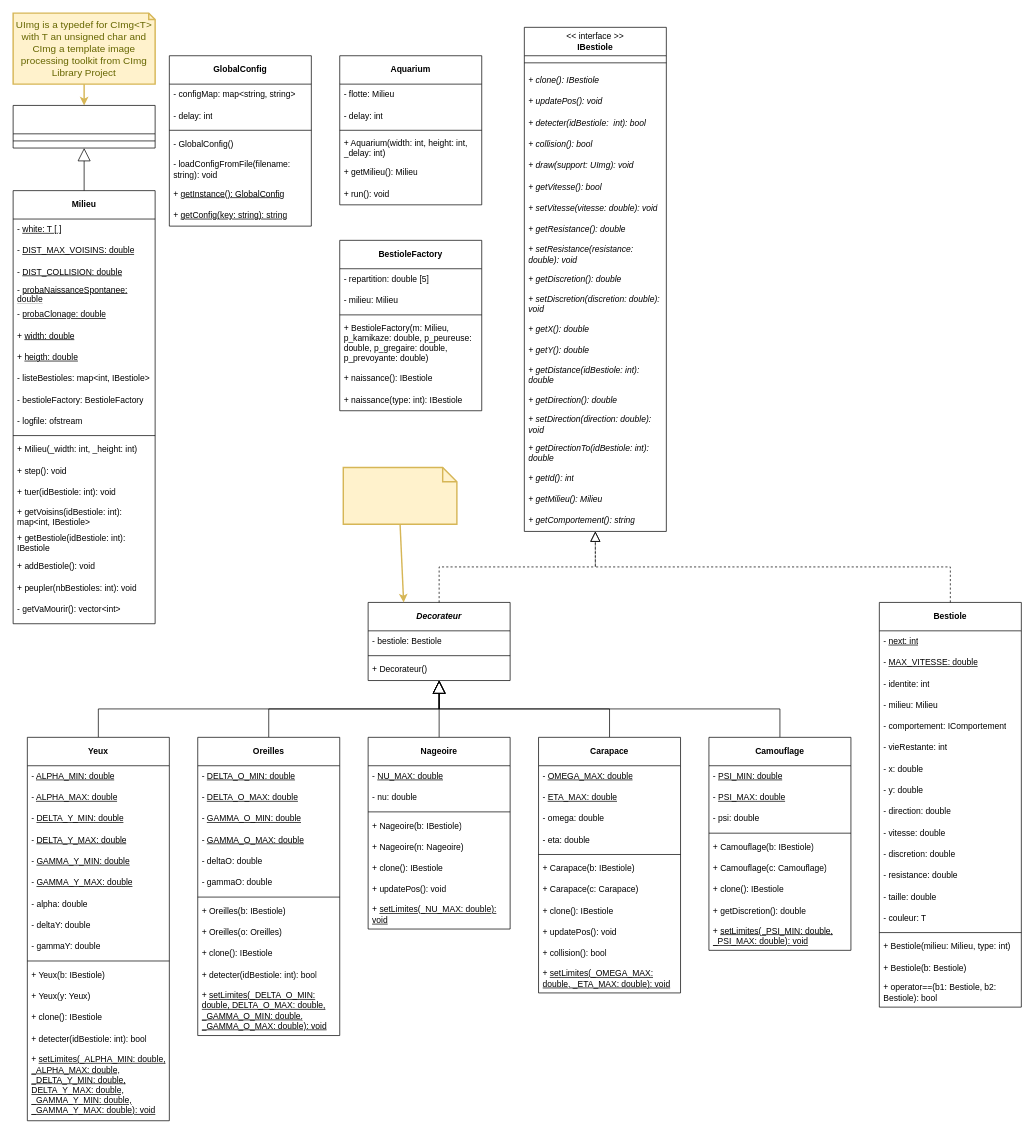
Image size: 1034x1133. Some labels were removed from this diagram. Here are the shapes that lost their labels. From the top down, the centre of each, then its label:
the point at 83,126: UImg
the point at 399,495: Implements all methods except clone()
